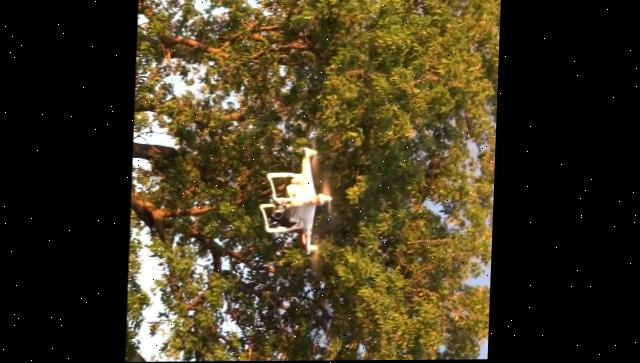drone: (260, 143, 340, 254)
